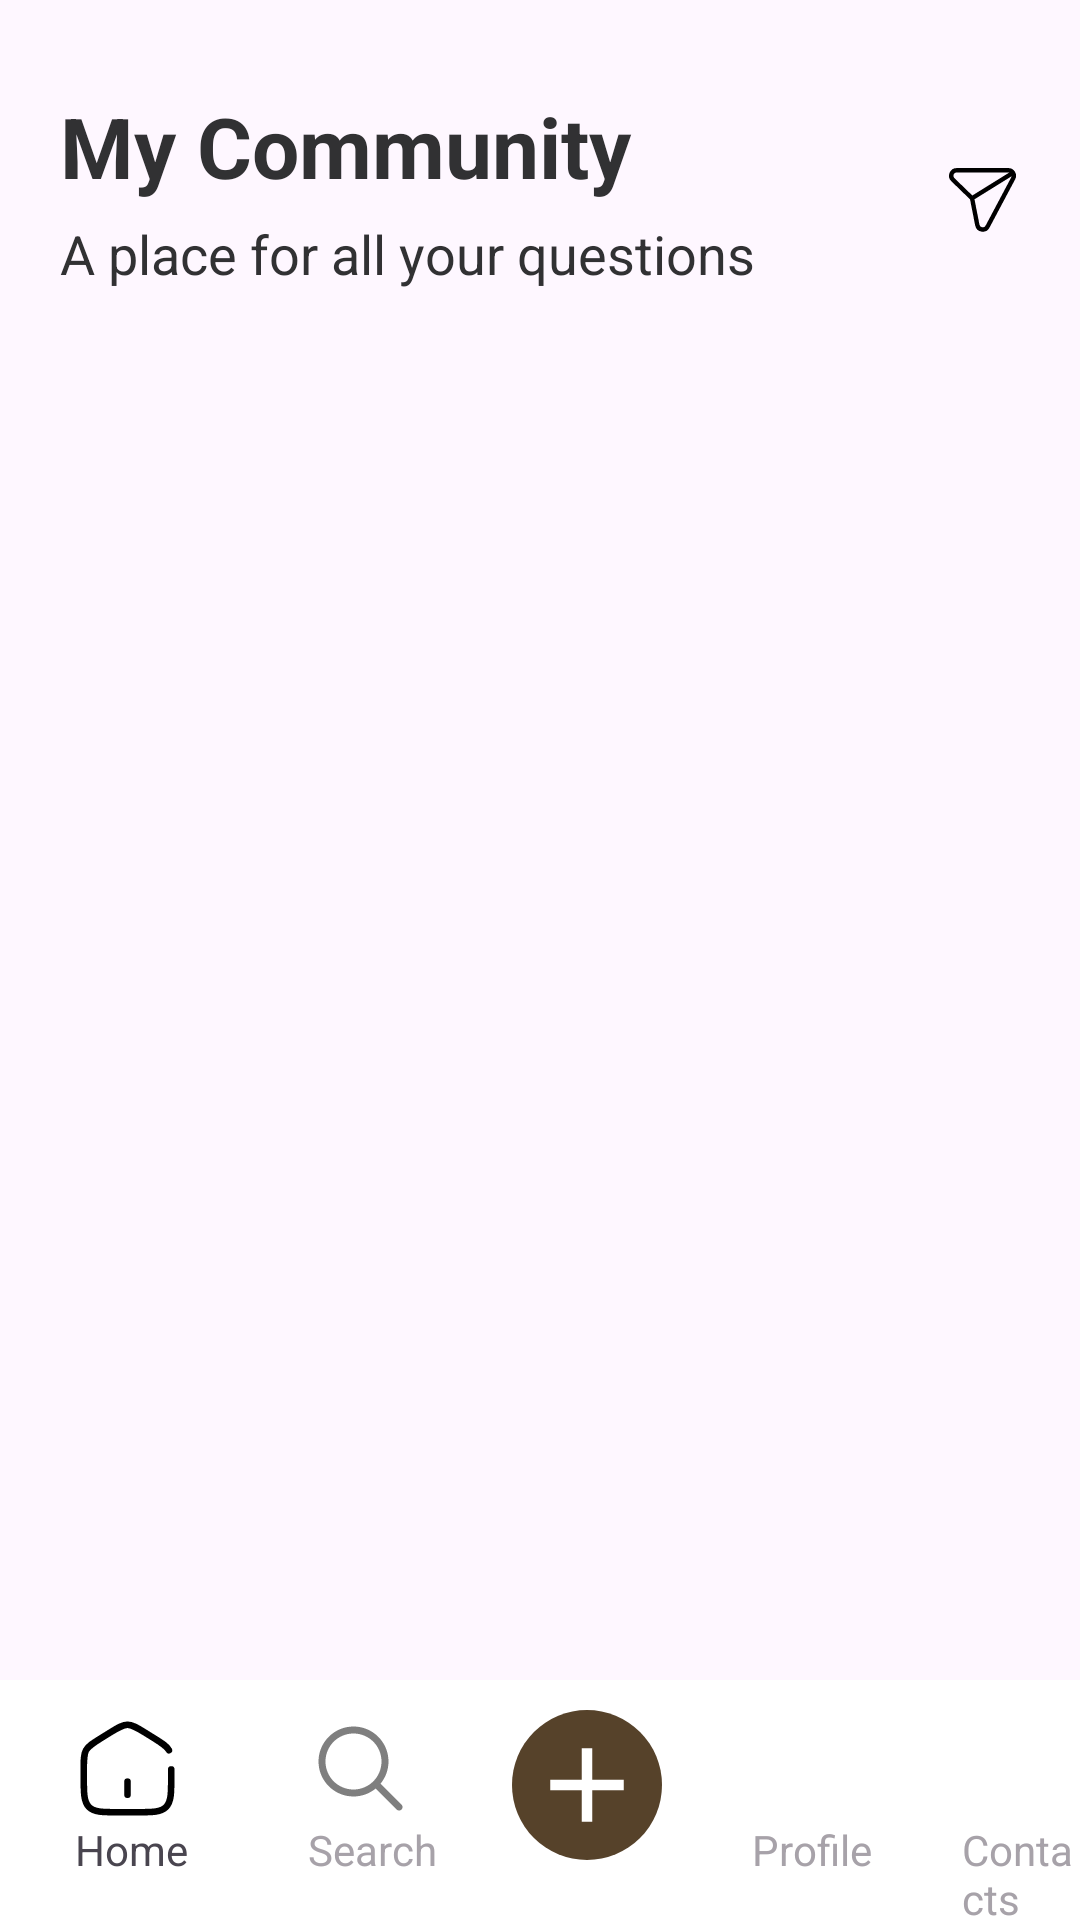

Icons on this 1080px×1920px Android screen, each with its box as (x1, y1, x2, y2):
add symbol: (512, 1710, 662, 1860)
share: (949, 168, 1016, 232)
